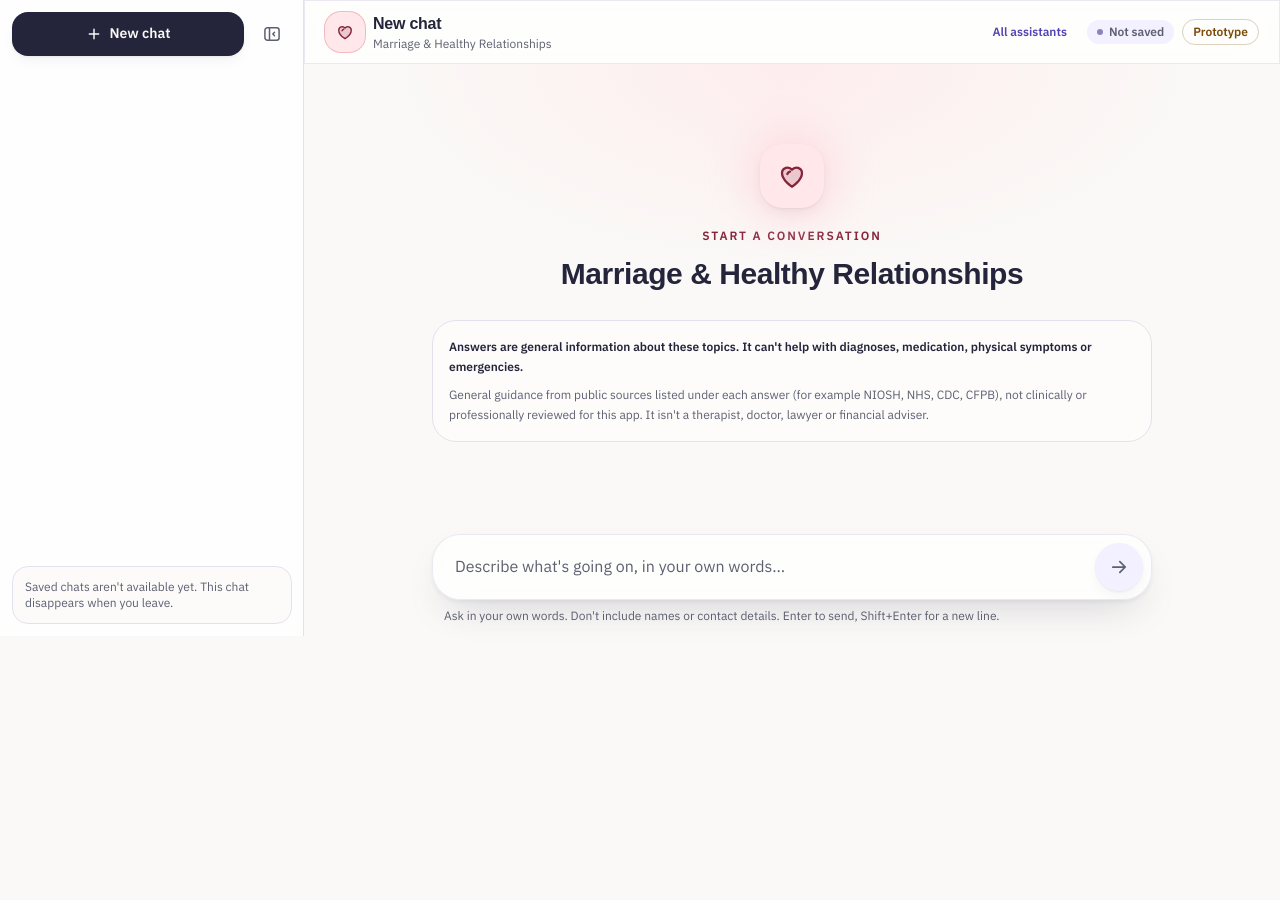
Test case: workspace handoff › never links to an assistant that isn't ready
Type "My manager keeps changing my deadlines" into the text box named "Ask a general question".
click(764, 567); type("My manager keeps changing my deadlines")  # box x1=441 y1=543 x2=1087 y2=591
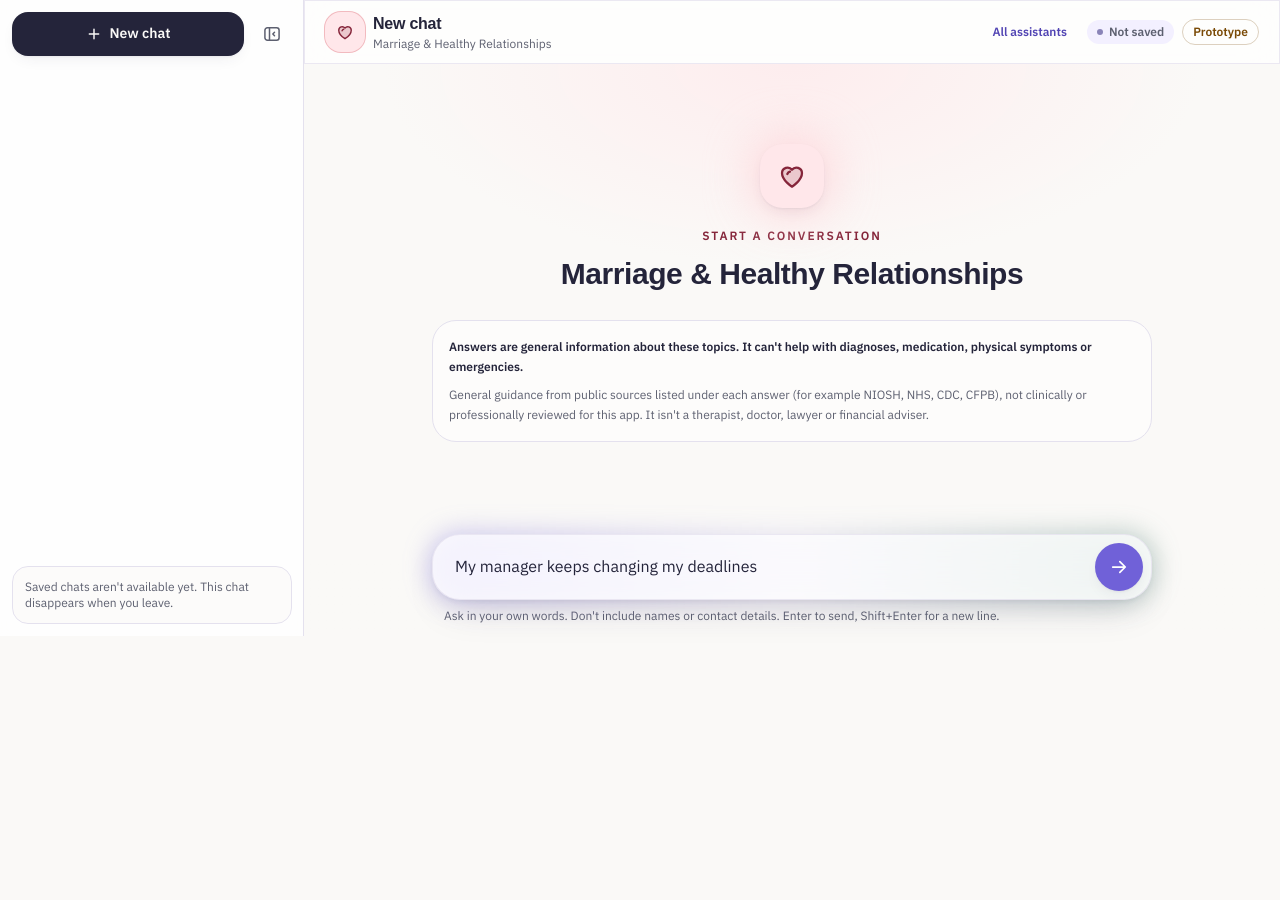
Click the button named "Send".
click(1119, 567)  # box x1=1095 y1=543 x2=1143 y2=591
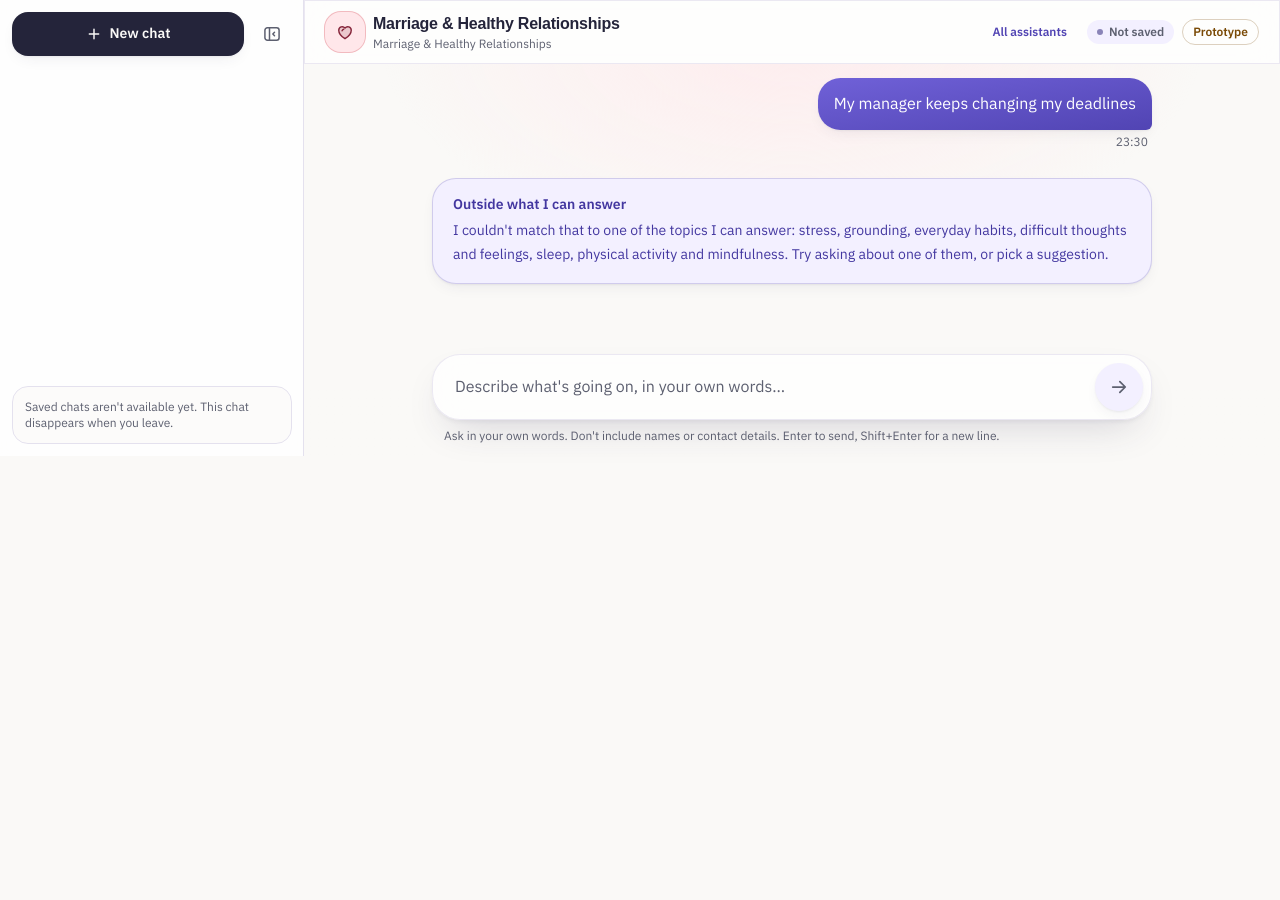
Expected: the element that starts with "Outside what I can answer" is shown, x1=432 y1=178 x2=1152 y2=284
